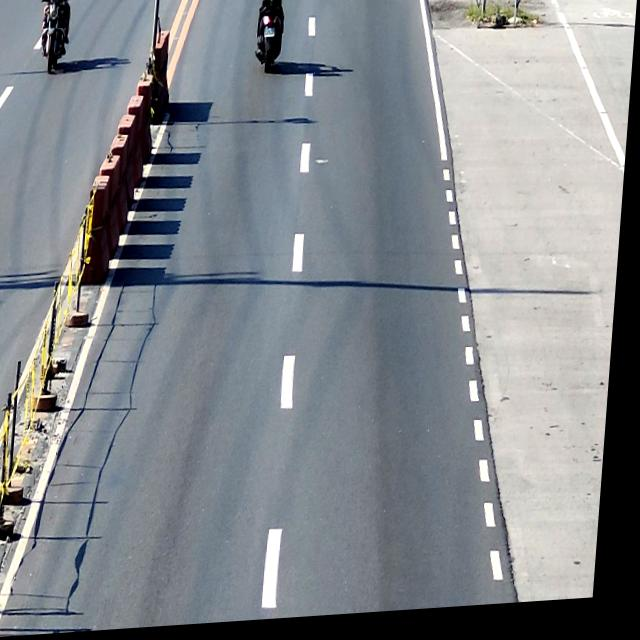License-Plate: (264, 30, 276, 41)
Motorcycle: (253, 0, 288, 77), (38, 0, 72, 75)
